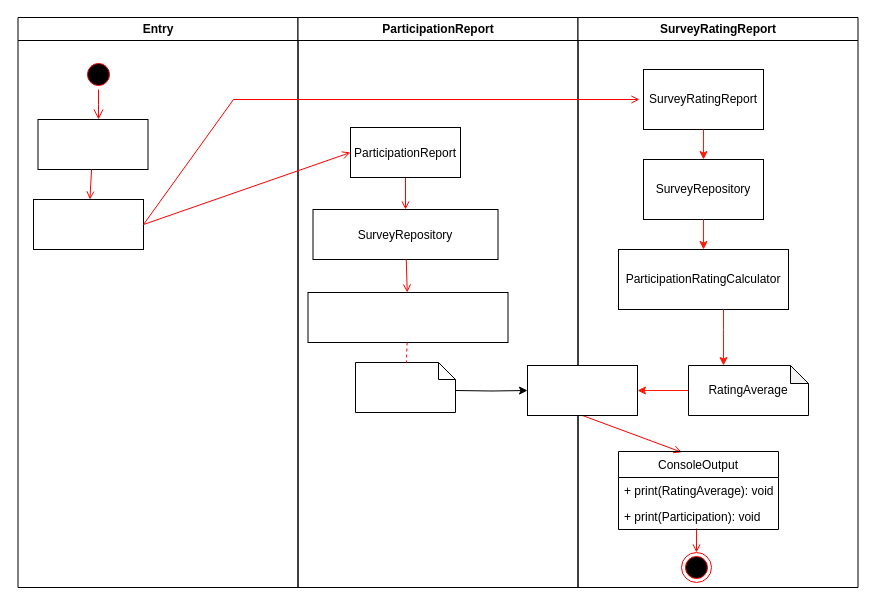
The diagram is 875 pixels wide and 605 high, and some of its shapes have lost their labels. The shapes that lost their labels are listed below. From the top down, each one's centre as x and y in pixels, then its label:
(x=92, y=144): App
(x=88, y=224): ReportFactory
(x=407, y=317): ParticipationPercentageCalculator
(x=405, y=387): Participation
(x=582, y=390): «interface» Output
